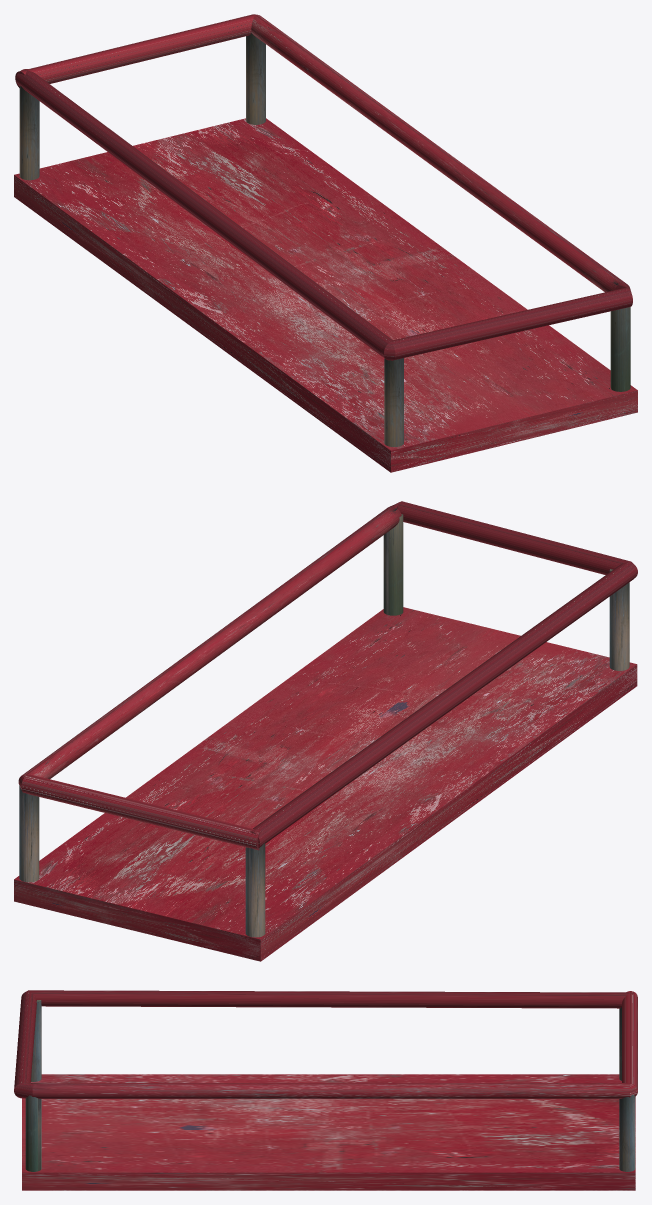
File: Scafolding.fbx
The picture shows the model from 3 angles, top to bottom: view 1: azimuth 30°, elevation 25°; view 2: azimuth 150°, elevation 25°; view 3: azimuth 270°, elevation 25°; orthographic projection. The views are drawn at different scales.
Parts seen in each view (by area): view 1: Cylinder.003; view 2: Cylinder.003; view 3: Cylinder.003.
Part boxes in pixels (x1,y1,x2,y2): Cylinder.003: (14, 14, 637, 472); Cylinder.003: (14, 501, 637, 961); Cylinder.003: (14, 990, 637, 1190).
Bounding box in the file's own units: 4.07 × 1.96 × 10.74.
